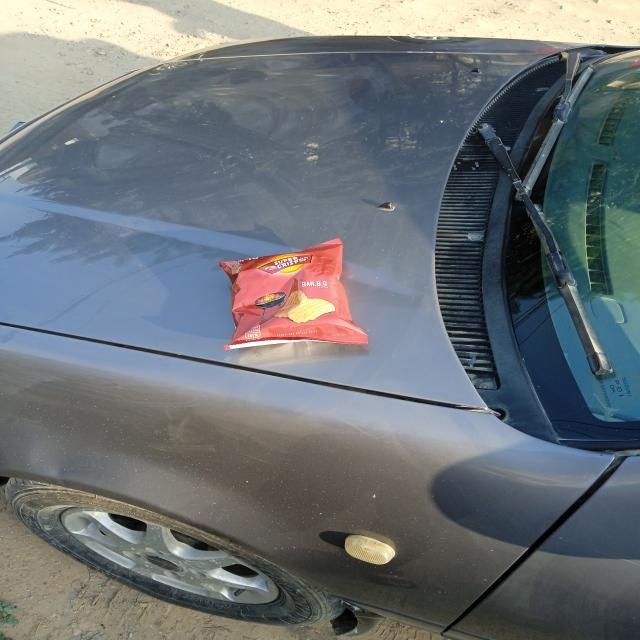Plastic: (222, 233, 374, 369)
